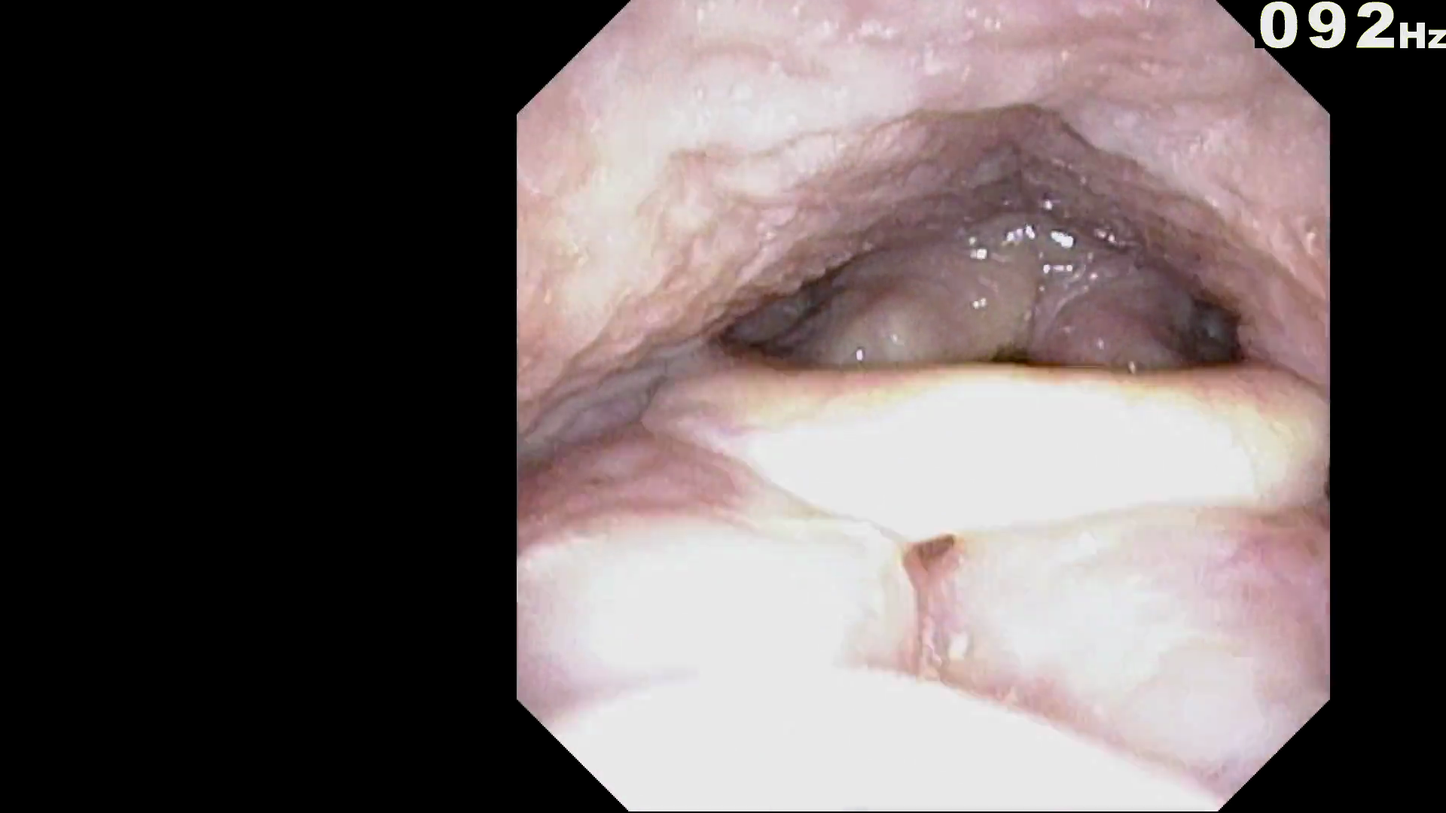epiglottis: (656, 300, 1308, 608)
trachea: (943, 263, 1079, 405)
